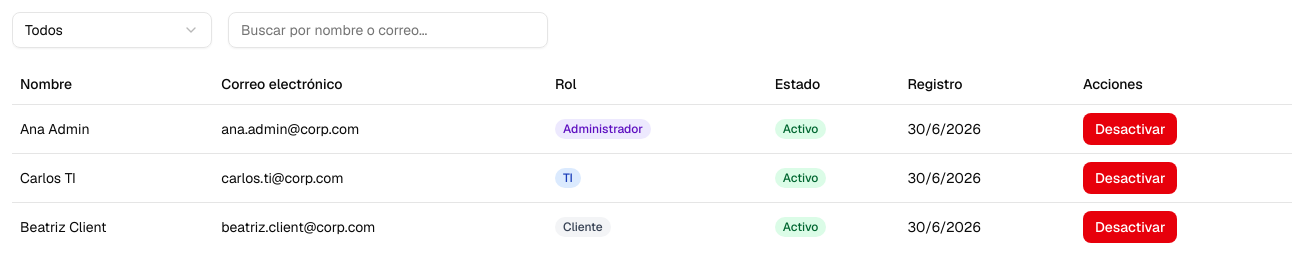
Scenario: UsersTable — filter panel › matches email containing search term (Scenario U-5 positive)
The width and height of the screenshot is (1292, 260).
In the search field with placeholder "Buscar por nombre o correo...": (388, 30) left=228, top=12, right=548, bottom=48, type "carlos.ti"
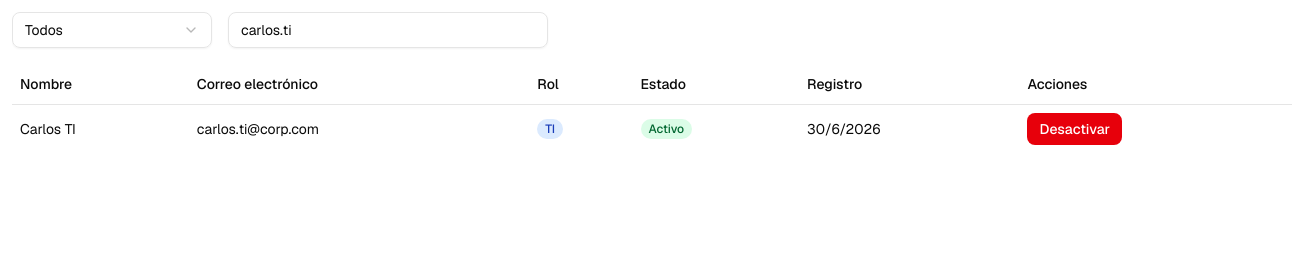
Expected: the text "Carlos TI" is shown, left=12, top=104, right=189, bottom=152
Result: the text "Ana Admin" is gone
